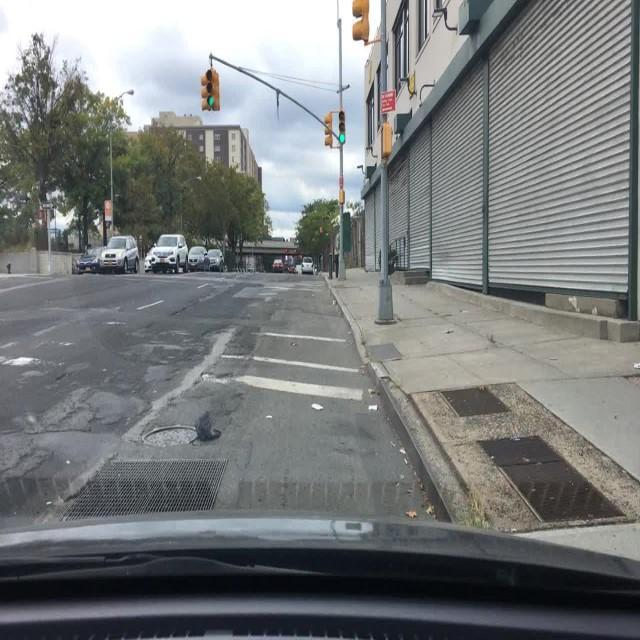normal: (145, 233, 190, 273), (100, 234, 139, 274), (73, 251, 99, 274), (185, 246, 207, 269), (205, 251, 225, 272)
